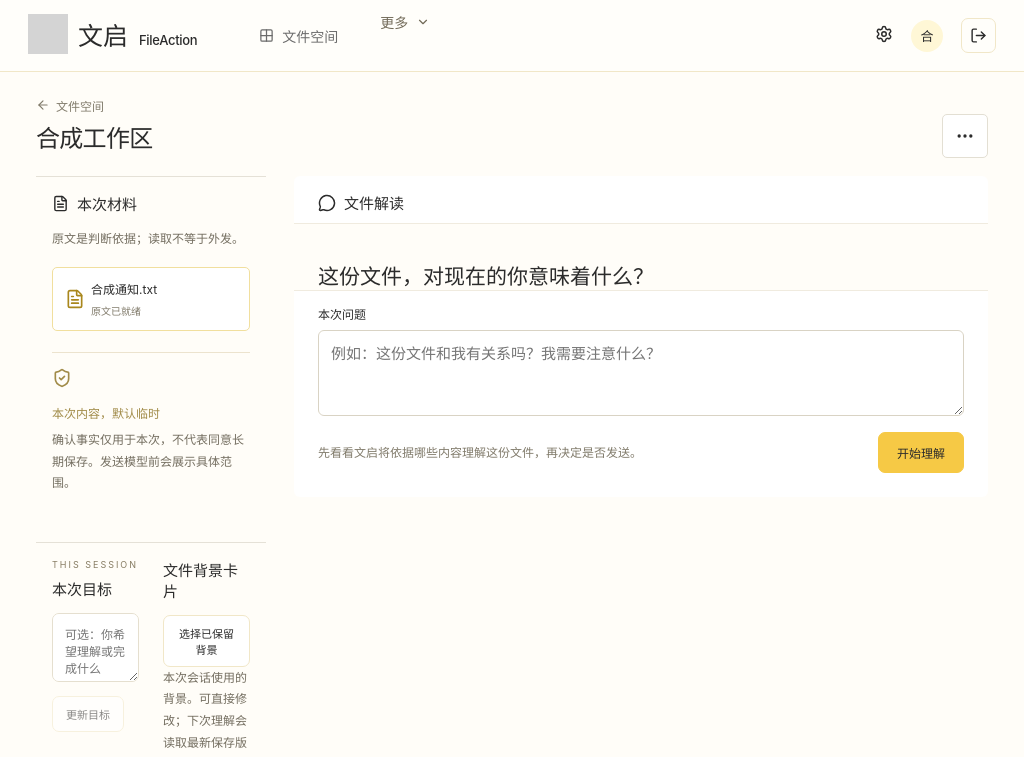
未配置模型时不渲染空白服务方，并说明无法开始
Type "合成问题" into the text box labelled "本次问题" at (641, 373), box [318,330,964,416]
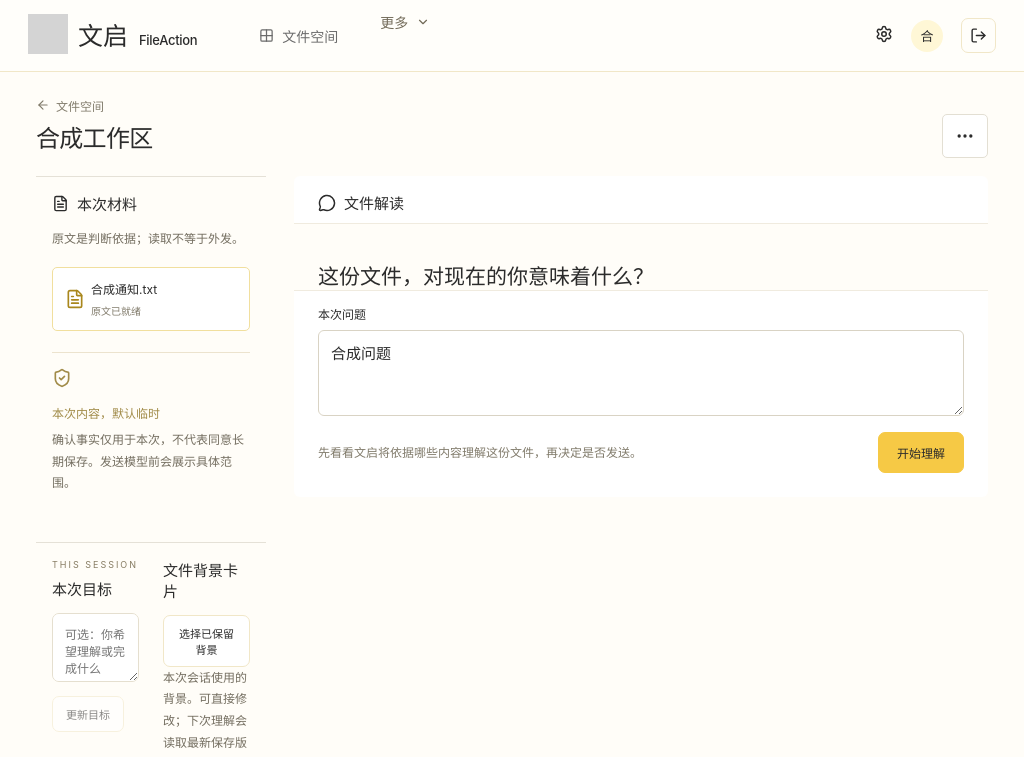
Click the button with aria-label "预览外发内容" at (921, 453), box [878,432,964,473]
(page scrolled)
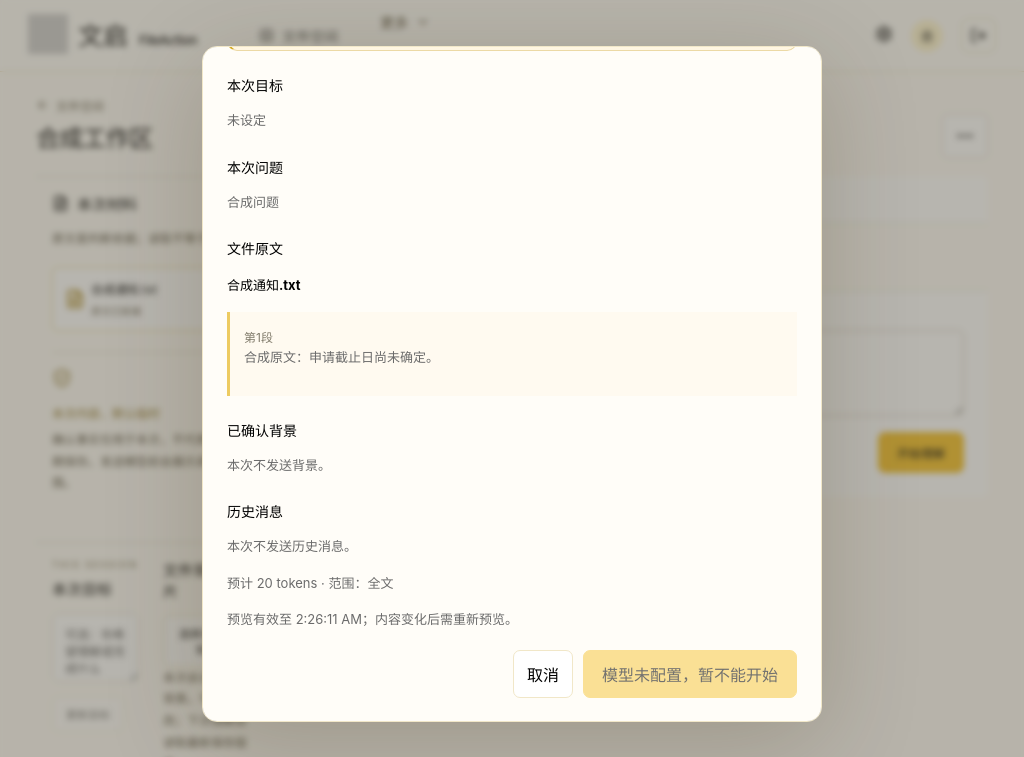
Now the button "模型未配置，暂不能开始" is disabled, box [583,650,797,698]
